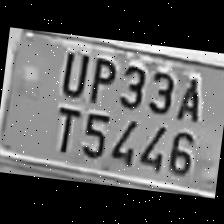3: (114, 54, 150, 110), (143, 61, 176, 114)
4: (105, 106, 141, 166), (134, 113, 168, 171)
5: (73, 104, 110, 159)
6: (162, 121, 198, 176)
A: (172, 68, 205, 122)
P: (83, 48, 118, 106)
T: (44, 97, 82, 155)
U: (54, 43, 91, 99)
